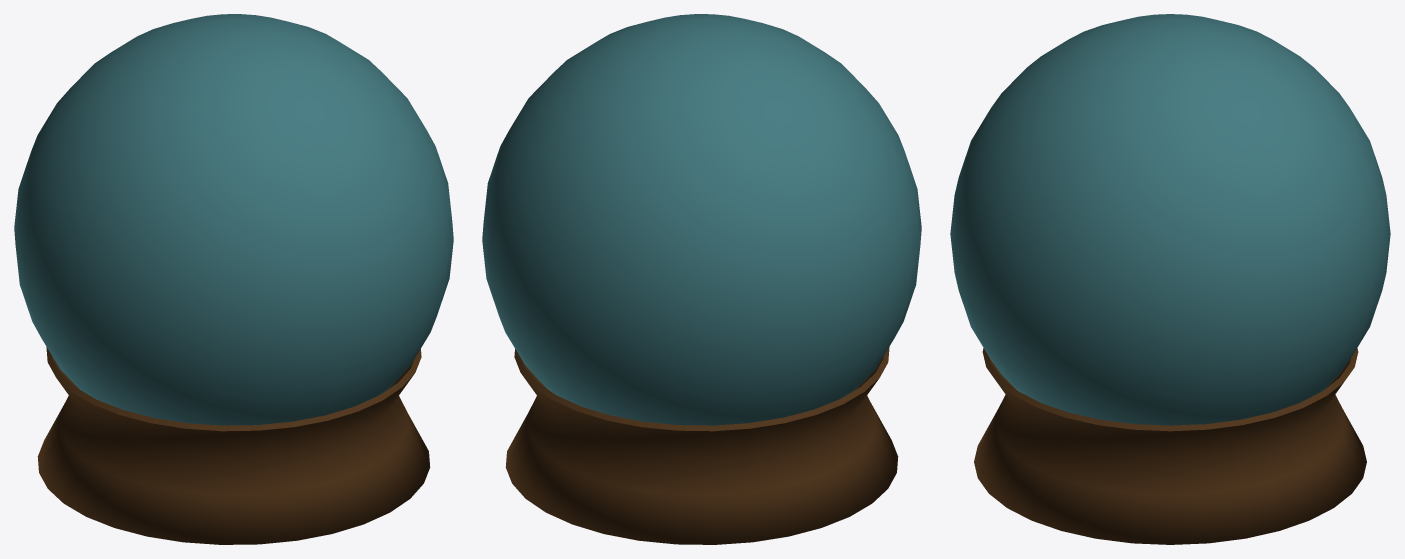
Rendered from boule_low.fbx.
The picture shows the model from 3 angles, left to right: view 1: azimuth 30°, elevation 25°; view 2: azimuth 150°, elevation 25°; view 3: azimuth 270°, elevation 25°; orthographic projection.
Visible parts, largest first — view 1: boule, supportboule; view 2: boule, supportboule; view 3: boule, supportboule.
Part boxes in pixels (x1,y1,x2,y2): boule: (14,14,453,425); supportboule: (37,347,430,544); boule: (482,14,921,425); supportboule: (505,347,898,544); boule: (950,14,1390,425); supportboule: (974,348,1366,544).
Size of the model in its own units: 9.99 by 10.71 by 9.99.
